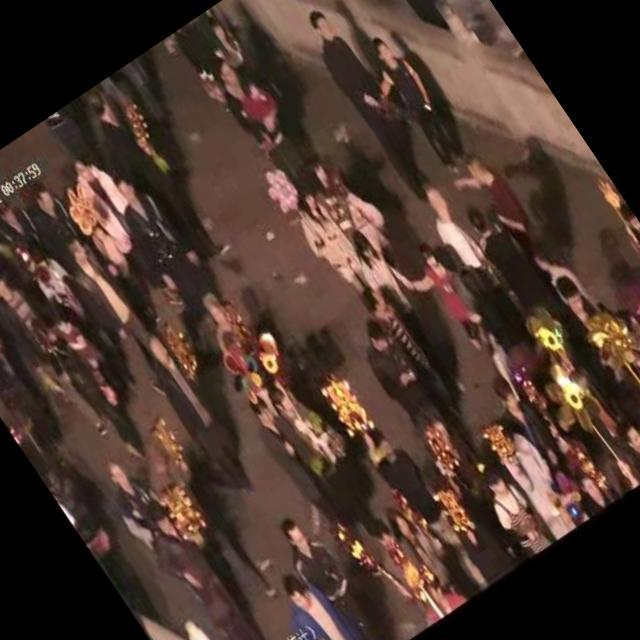person: (290, 0, 458, 210), (78, 74, 238, 280), (126, 318, 274, 506), (48, 224, 189, 409), (120, 482, 285, 640), (0, 253, 125, 453), (338, 222, 474, 404), (92, 158, 223, 318), (238, 382, 358, 536), (268, 500, 400, 640), (360, 24, 477, 172), (200, 47, 314, 187), (278, 178, 388, 319), (449, 139, 557, 275), (342, 306, 452, 436), (293, 136, 394, 255), (402, 234, 494, 354), (375, 496, 468, 610), (464, 450, 558, 562), (261, 555, 379, 640), (408, 174, 498, 278), (197, 8, 264, 88), (92, 444, 160, 518), (13, 172, 79, 244), (564, 461, 619, 519), (606, 407, 640, 483)
